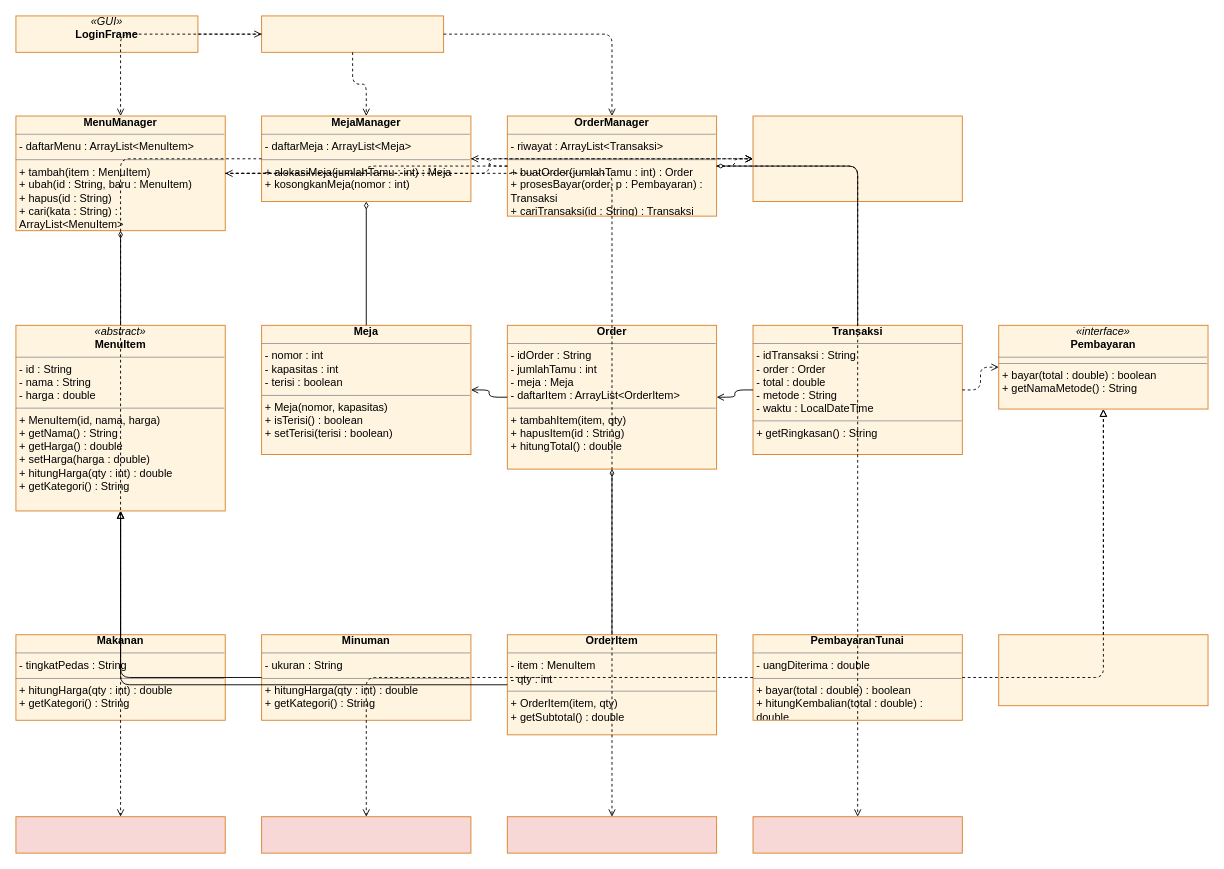
The diagram is 1224 pixels wide and 869 high, and some of its shapes have lost their labels. The centre of each missing label's shape, as x and y in pixels:
"FileHandler + simpan/muatMenu() + simpan/muatMeja() + simpan/muatTransaksi()" goes at (x=857, y=158).
"PembayaranQRIS - kodeReferensi : String + bayar(total : double) : boolean" goes at (x=1103, y=670).
"«exception» InputTidakValidException" goes at (x=857, y=834).
"«exception» MenuNotFoundException" goes at (x=611, y=834).
"«exception» TidakAdaMejaException" goes at (x=120, y=834).
"«exception» UangKurangException" goes at (x=366, y=834).
"«GUI» MainFrame" goes at (x=352, y=33).
